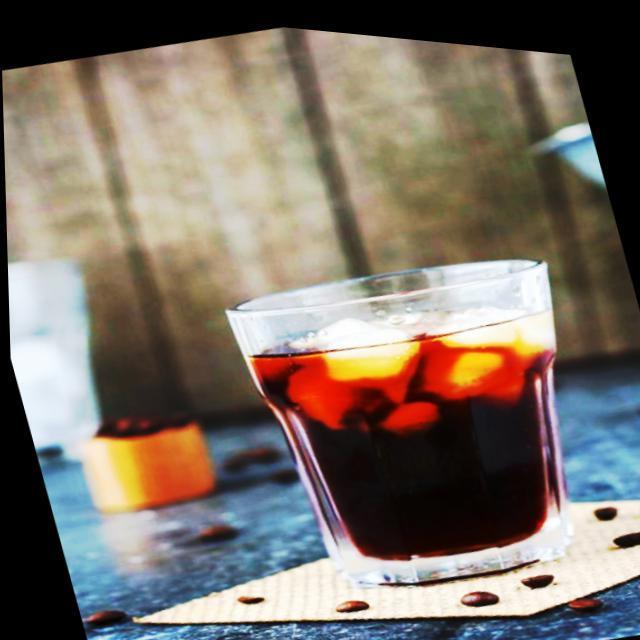drink: (228, 261, 578, 563)
